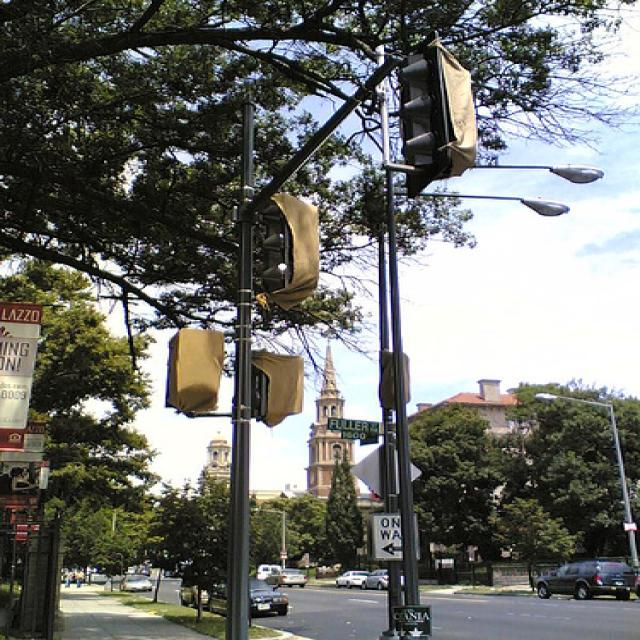Vehicle: (534, 562, 633, 600), (204, 579, 291, 616), (248, 579, 289, 617), (361, 569, 405, 591), (264, 570, 307, 588), (118, 574, 156, 592), (336, 571, 370, 589), (256, 564, 282, 581)
